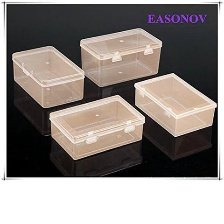plastic_box: (42, 91, 150, 164), (128, 68, 216, 140), (73, 23, 166, 91), (7, 39, 88, 111)
